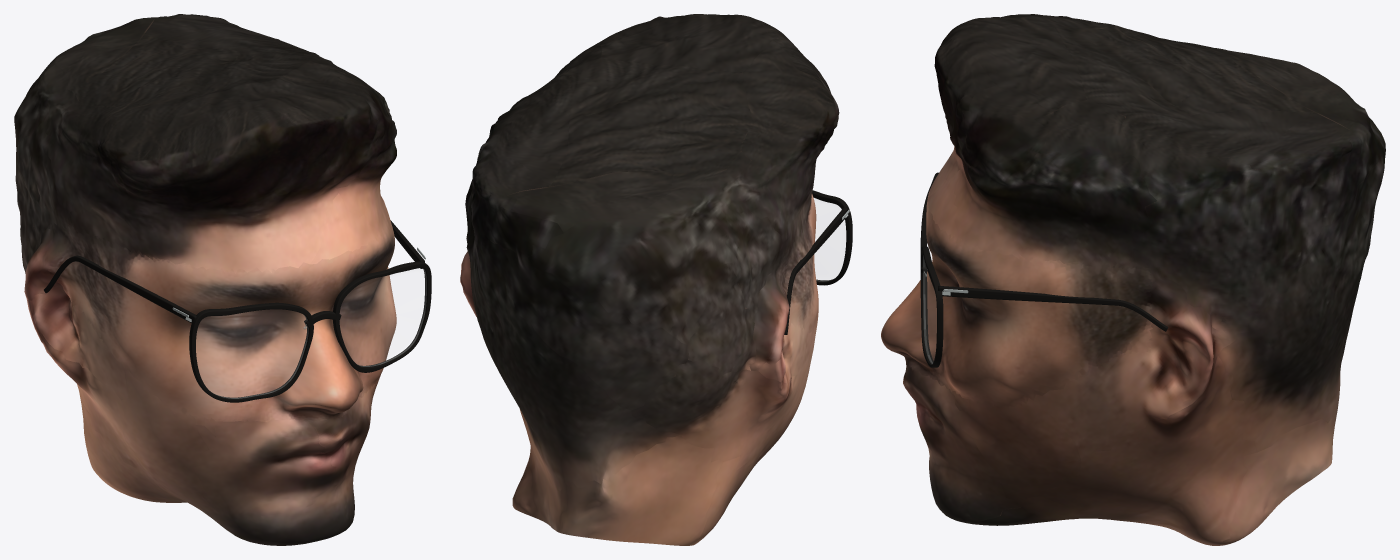
3 views of the same model, side by side, from view 1: azimuth 30°, elevation 25°; view 2: azimuth 150°, elevation 25°; view 3: azimuth 270°, elevation 25° (orthographic). The views are drawn at different scales.
Parts seen in each view (by area): view 1: world, Eyeglass rim 1, Eyeglass rim 2, Eyeglass temple 1; view 2: world, Eyeglass rim 1, Eyeglass temple 1; view 3: world, Eyeglass temple 2, Eyeglass rim 2.
Boxes of the visible parts, x1,y1,x2,y2 form: world: [14, 14, 396, 545]; Eyeglass rim 1: [189, 302, 313, 402]; Eyeglass rim 2: [333, 261, 431, 372]; Eyeglass temple 1: [44, 255, 196, 323]; world: [460, 14, 839, 545]; Eyeglass rim 1: [812, 190, 852, 285]; Eyeglass temple 1: [784, 207, 848, 334]; world: [881, 14, 1385, 545]; Eyeglass temple 2: [938, 286, 1168, 331]; Eyeglass rim 2: [920, 246, 943, 367].
Bounding box in the file's own units: 0.2263 × 0.3064 × 0.2949.
Materials: 7 (1 with a texture image).
